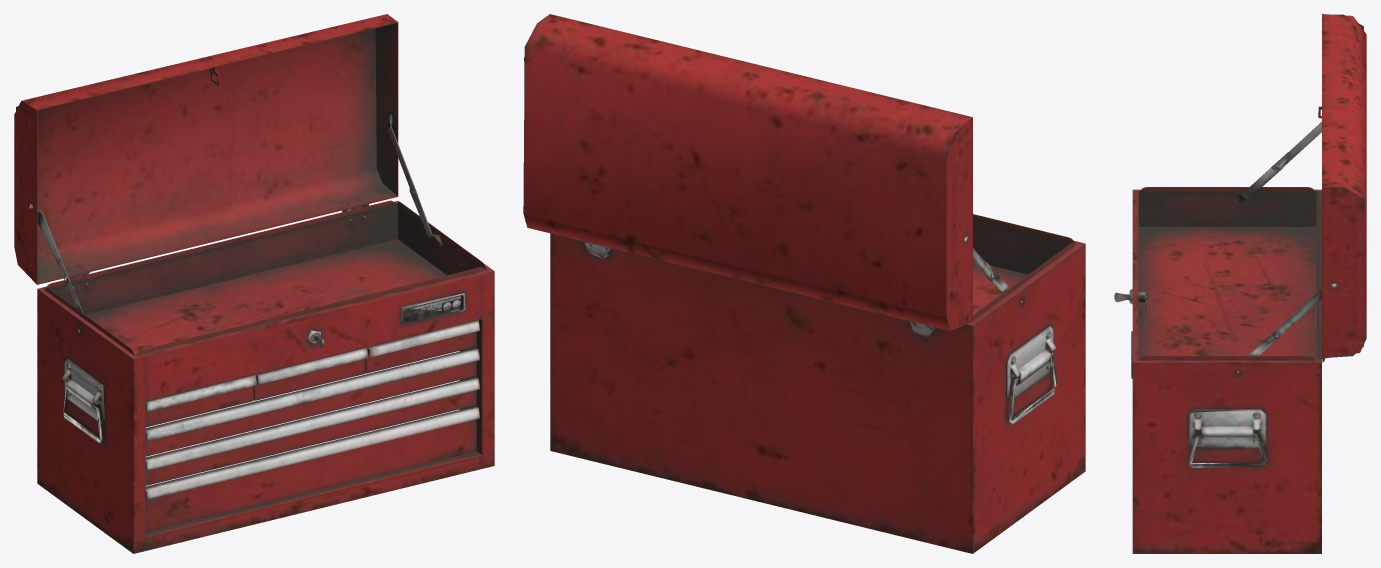
The model's file is werkzeugwagen.glb.
The picture shows the model from 3 angles, left to right: view 1: azimuth 30°, elevation 25°; view 2: azimuth 150°, elevation 25°; view 3: azimuth 270°, elevation 25°; orthographic projection. The views are drawn at different scales.
Visible parts, largest first — view 1: metal_tool_chest_chest; view 2: metal_tool_chest_chest; view 3: metal_tool_chest_chest.
Part boxes in pixels (bbox=[...]): metal_tool_chest_chest: bbox=[14, 14, 494, 553]; metal_tool_chest_chest: bbox=[523, 14, 1085, 553]; metal_tool_chest_chest: bbox=[1114, 14, 1366, 553].
Size of the model in its own units: 0.6841 by 0.6518 by 0.4063.
Materials: 1 (1 with a texture image).
